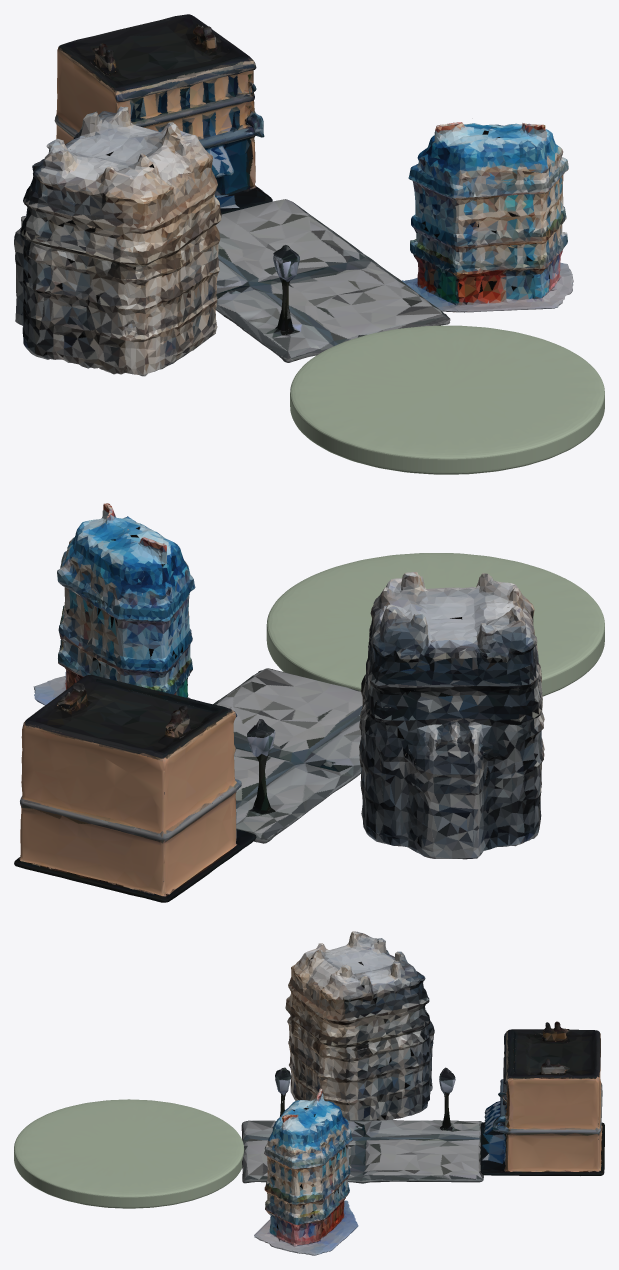
The model's file is modelOld.glb.
The picture shows the model from 3 angles, top to bottom: view 1: azimuth 30°, elevation 25°; view 2: azimuth 150°, elevation 25°; view 3: azimuth 270°, elevation 25°; orthographic projection. The views are drawn at different scales.
Parts seen in each view (by area): view 1: tmpvk8dpl2l.002, footing_02, tmpjxuqkcug.003, bakery, mesh; view 2: tmpvk8dpl2l.002, bakery, footing_02, tmpjxuqkcug.003, mesh; view 3: tmpvk8dpl2l.002, footing_02, bakery, tmpjxuqkcug.003, mesh.
Boxes of the visible parts, x1=… form: tmpvk8dpl2l.002: x1=14, y1=106, x2=221, y2=376; footing_02: x1=290, y1=325, x2=604, y2=474; tmpjxuqkcug.003: x1=402, y1=122, x2=573, y2=312; bakery: x1=54, y1=14, x2=272, y2=214; mesh: x1=215, y1=199, x2=450, y2=362; tmpvk8dpl2l.002: x1=359, y1=572, x2=544, y2=859; bakery: x1=14, y1=674, x2=256, y2=902; footing_02: x1=266, y1=553, x2=604, y2=696; tmpjxuqkcug.003: x1=33, y1=503, x2=195, y2=705; mesh: x1=213, y1=645, x2=368, y2=843; tmpvk8dpl2l.002: x1=285, y1=931, x2=434, y2=1120; footing_02: x1=14, y1=1099, x2=244, y2=1208; bakery: x1=480, y1=1021, x2=604, y2=1175; tmpjxuqkcug.003: x1=254, y1=1088, x2=358, y2=1255; mesh: x1=241, y1=1067, x2=483, y2=1183.
Size of the model in its own units: 18.2 by 7.43 by 25.12.
5 materials, 4 textured.
